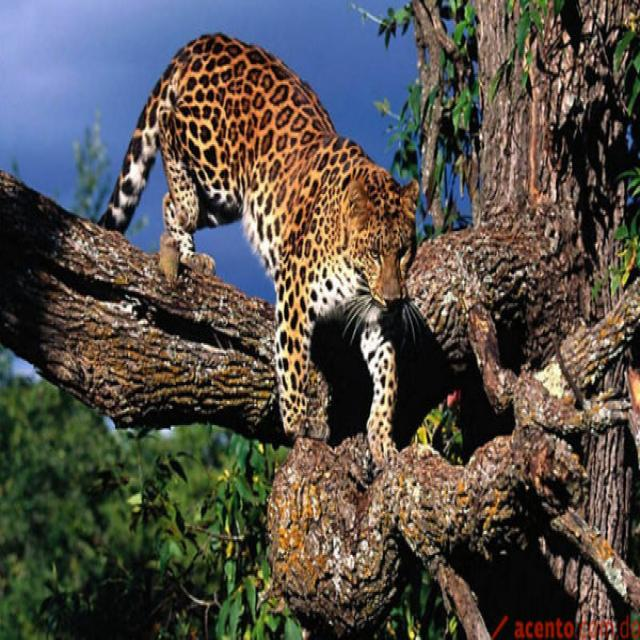Leopard: (97, 34, 418, 464)
